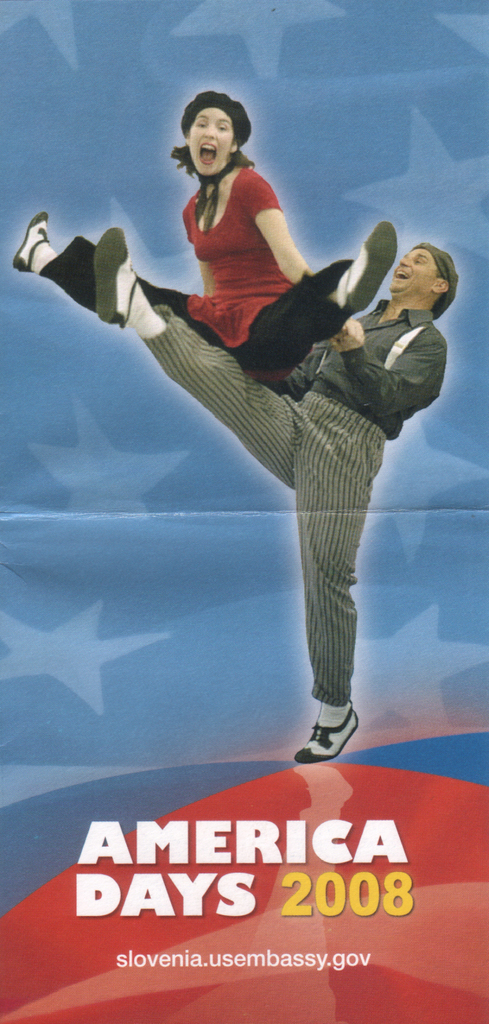Person: (90, 222, 461, 770), (13, 90, 396, 380)
